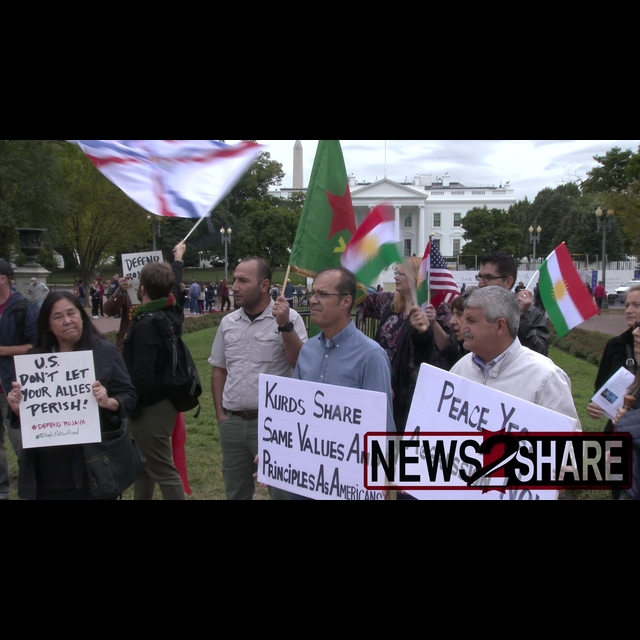IBKY: (537, 241, 601, 341)
YPJ: (288, 136, 350, 271)
